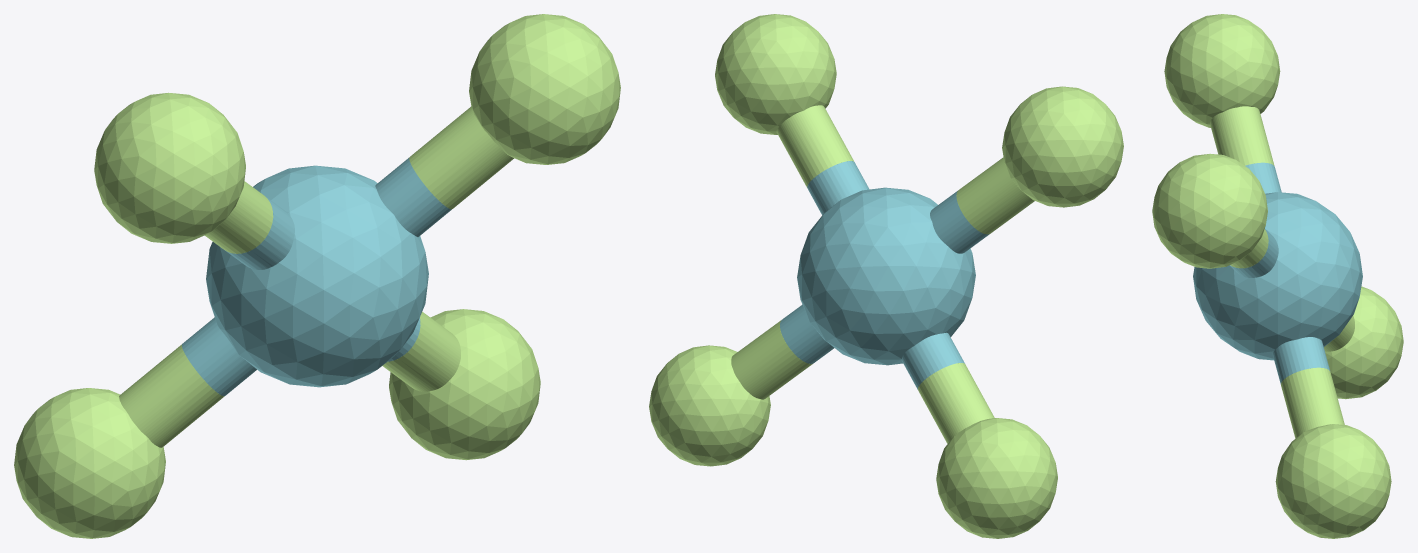
The model's file is XeF4.glb.
3 renders of one model, left to right at view 1: azimuth 30°, elevation 25°; view 2: azimuth 150°, elevation 25°; view 3: azimuth 270°, elevation 25°, orthographic. The views are drawn at different scales.
Visible parts, largest first — view 1: Shape_IndexedFaceSet, Shape_IndexedFaceSet.001, Shape_IndexedFaceSet.004, Shape_IndexedFaceSet.003, Shape_IndexedFaceSet.002, Shape_IndexedFaceSet.007, Shape_IndexedFaceSet.010, Shape_IndexedFaceSet.013, Shape_IndexedFaceSet.009, Shape_IndexedFaceSet.005, Shape_IndexedFaceSet.016, Shape_IndexedFaceSet.015; view 2: Shape_IndexedFaceSet, Shape_IndexedFaceSet.001, Shape_IndexedFaceSet.003, Shape_IndexedFaceSet.004, Shape_IndexedFaceSet.002, Shape_IndexedFaceSet.007, Shape_IndexedFaceSet.010, Shape_IndexedFaceSet.013, Shape_IndexedFaceSet.016, Shape_IndexedFaceSet.009, Shape_IndexedFaceSet.005, Shape_IndexedFaceSet.015 (+1 smaller); view 3: Shape_IndexedFaceSet, Shape_IndexedFaceSet.004, Shape_IndexedFaceSet.002, Shape_IndexedFaceSet.001, Shape_IndexedFaceSet.003, Shape_IndexedFaceSet.013, Shape_IndexedFaceSet.016, Shape_IndexedFaceSet.012, Shape_IndexedFaceSet.005, Shape_IndexedFaceSet.015, Shape_IndexedFaceSet.007, Shape_IndexedFaceSet.010.
Part boxes in pixels (x1=…): Shape_IndexedFaceSet: x1=206, y1=165, x2=428, y2=387; Shape_IndexedFaceSet.001: x1=94, y1=92, x2=245, y2=243; Shape_IndexedFaceSet.004: x1=469, y1=14, x2=620, y2=164; Shape_IndexedFaceSet.003: x1=14, y1=388, x2=165, y2=538; Shape_IndexedFaceSet.002: x1=389, y1=309, x2=540, y2=460; Shape_IndexedFaceSet.007: x1=409, y1=106, x2=513, y2=209; Shape_IndexedFaceSet.010: x1=119, y1=344, x2=224, y2=447; Shape_IndexedFaceSet.013: x1=382, y1=311, x2=460, y2=391; Shape_IndexedFaceSet.009: x1=181, y1=317, x2=256, y2=396; Shape_IndexedFaceSet.005: x1=375, y1=158, x2=451, y2=236; Shape_IndexedFaceSet.016: x1=205, y1=181, x2=273, y2=253; Shape_IndexedFaceSet.015: x1=225, y1=196, x2=294, y2=269; Shape_IndexedFaceSet: x1=797, y1=187, x2=975, y2=365; Shape_IndexedFaceSet.001: x1=1002, y1=86, x2=1123, y2=207; Shape_IndexedFaceSet.003: x1=936, y1=418, x2=1057, y2=538; Shape_IndexedFaceSet.004: x1=715, y1=14, x2=836, y2=134; Shape_IndexedFaceSet.002: x1=649, y1=345, x2=770, y2=466; Shape_IndexedFaceSet.007: x1=776, y1=105, x2=853, y2=187; Shape_IndexedFaceSet.010: x1=918, y1=363, x2=994, y2=443; Shape_IndexedFaceSet.013: x1=731, y1=320, x2=812, y2=399; Shape_IndexedFaceSet.016: x1=956, y1=157, x2=1034, y2=234; Shape_IndexedFaceSet.009: x1=901, y1=332, x2=964, y2=389; Shape_IndexedFaceSet.005: x1=807, y1=161, x2=869, y2=215; Shape_IndexedFaceSet.015: x1=930, y1=191, x2=989, y2=253; Shape_IndexedFaceSet: x1=1193, y1=192, x2=1362, y2=360; Shape_IndexedFaceSet.004: x1=1152, y1=153, x2=1267, y2=268; Shape_IndexedFaceSet.002: x1=1275, y1=424, x2=1391, y2=538; Shape_IndexedFaceSet.001: x1=1164, y1=14, x2=1280, y2=127; Shape_IndexedFaceSet.003: x1=1325, y1=286, x2=1403, y2=399; Shape_IndexedFaceSet.013: x1=1281, y1=367, x2=1344, y2=438; Shape_IndexedFaceSet.016: x1=1210, y1=106, x2=1274, y2=165; Shape_IndexedFaceSet.012: x1=1272, y1=337, x2=1329, y2=384; Shape_IndexedFaceSet.005: x1=1230, y1=228, x2=1278, y2=277; Shape_IndexedFaceSet.015: x1=1245, y1=162, x2=1281, y2=193; Shape_IndexedFaceSet.007: x1=1230, y1=229, x2=1268, y2=268; Shape_IndexedFaceSet.010: x1=1324, y1=315, x2=1354, y2=351.
Size of the model in its own units: 0.872 by 0.8297 by 0.4998.
